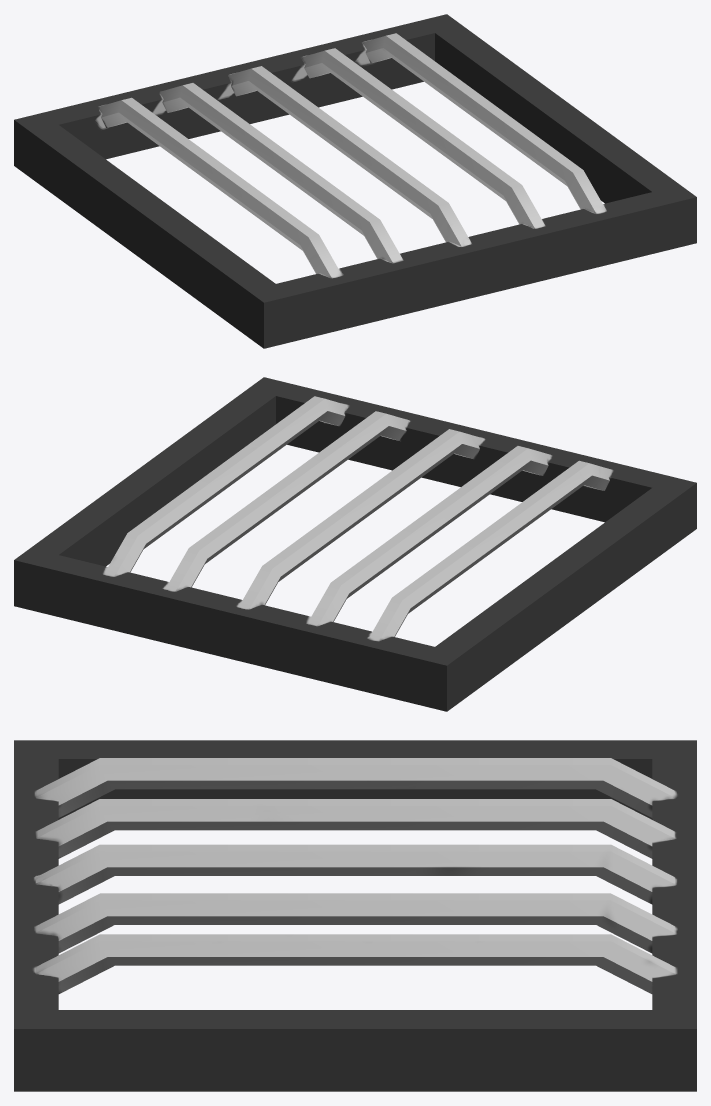
The model's file is Asset_002_Airvent.fbx.
The picture shows the model from 3 angles, top to bottom: view 1: azimuth 30°, elevation 25°; view 2: azimuth 150°, elevation 25°; view 3: azimuth 270°, elevation 25°; orthographic projection. The views are drawn at different scales.
Parts seen in each view (by area): view 1: AirVent_Platform; view 2: AirVent_Platform; view 3: AirVent_Platform.
Part boxes in pixels (bbox=[...]): AirVent_Platform: bbox=[14, 14, 696, 348]; AirVent_Platform: bbox=[14, 377, 696, 711]; AirVent_Platform: bbox=[14, 740, 696, 1091].
Bounding box in the file's own units: 31.17 × 4.82 × 31.17.
